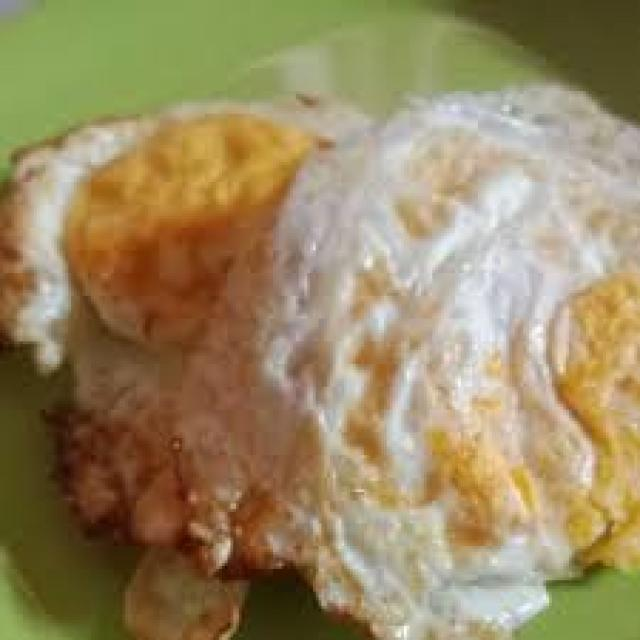Telur Ceplok: (25, 68, 640, 583)
